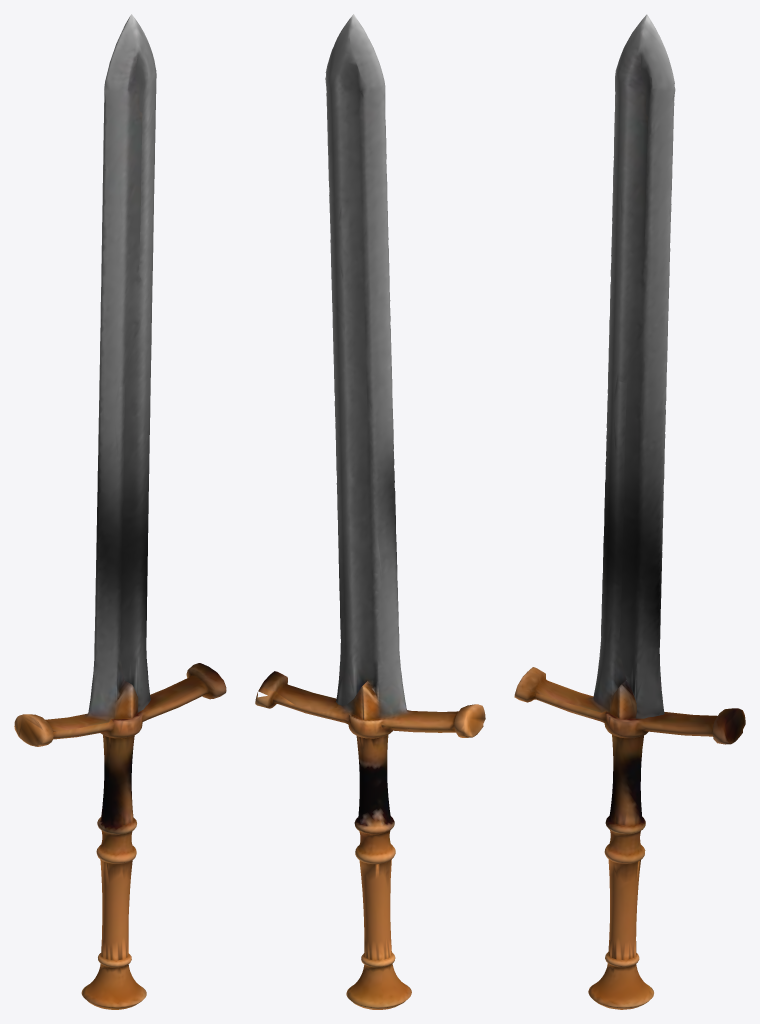
File: Greatsword_2.glb
3 views of the same model, side by side, from view 1: azimuth 30°, elevation 25°; view 2: azimuth 150°, elevation 25°; view 3: azimuth 330°, elevation 25° (orthographic).
Parts seen in each view (by area): view 1: baser_low.002; view 2: baser_low.002; view 3: baser_low.002.
Boxes of the visible parts, <box> form: baser_low.002: <box>14,14,226,1009</box>; baser_low.002: <box>255,14,485,1009</box>; baser_low.002: <box>514,14,745,1009</box>.
Bounding box in the file's own units: 0.4798 × 2.24 × 0.1607.
Materials: 1 (1 with a texture image).
